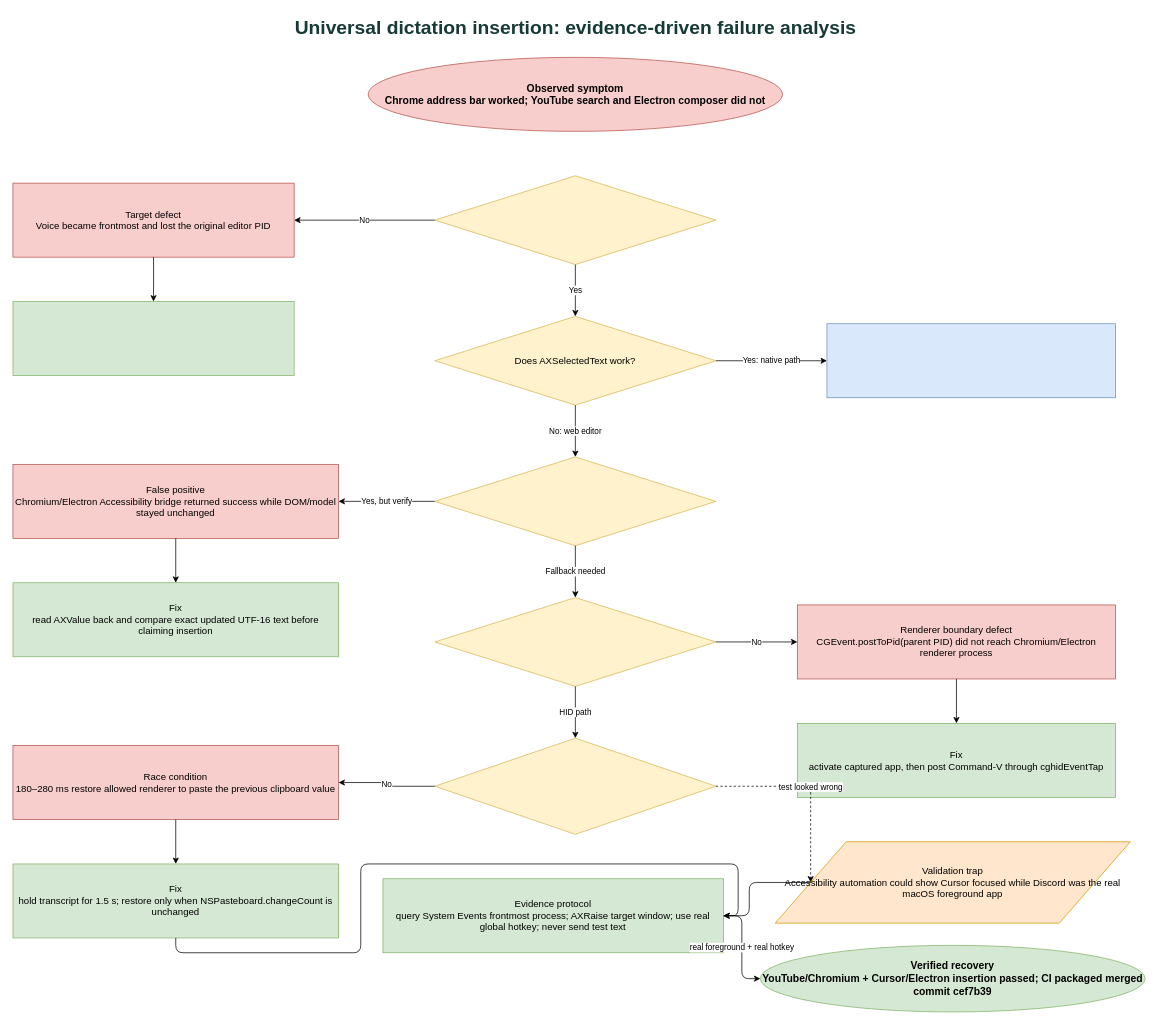
Image size: 1158x1025. Some labels were removed from this diagram. Each missing label, with the centre of its shape:
"Did targeted Command-V reach the renderer?" goes at (x=575, y=641).
"Does AXValue write report success?" goes at (x=575, y=501).
"Fix track last non-Voice NSWorkspace activation; refresh target for Insert again" goes at (x=153, y=338).
"Native-field path AppKit and Chrome address bar accept direct AX replacement" goes at (x=971, y=360).
"Was the correct target application captured?" goes at (x=575, y=220).
"Was transient pasteboard restored after renderer consumed it?" goes at (x=575, y=785).
